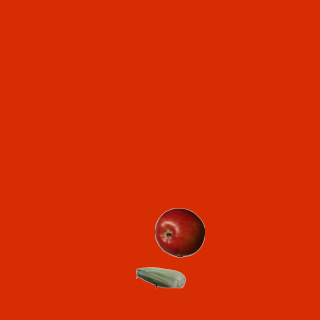Apple Braeburn: (154, 207, 204, 257)
Corn Husk: (135, 252, 185, 302)
